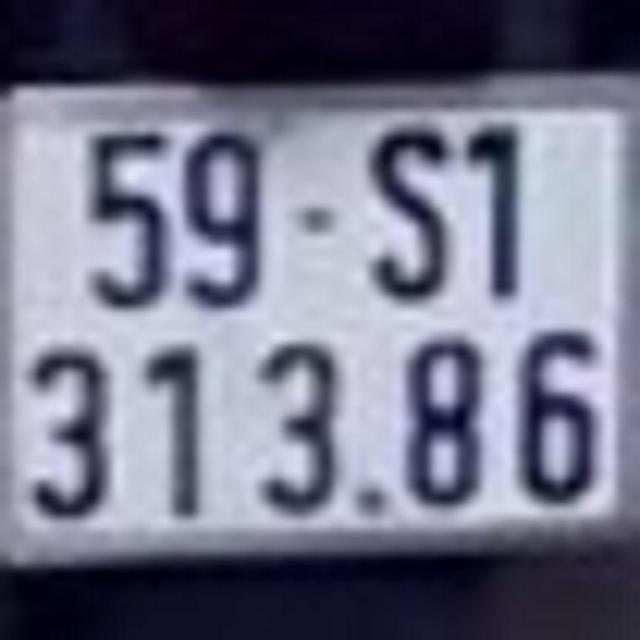1: (136, 335, 212, 520), (462, 115, 533, 312)
3: (248, 332, 340, 524), (24, 338, 114, 520)
5: (81, 124, 179, 311)
6: (511, 322, 605, 505)
8: (402, 328, 489, 504)
9: (182, 127, 268, 315)
S: (364, 115, 455, 311)
